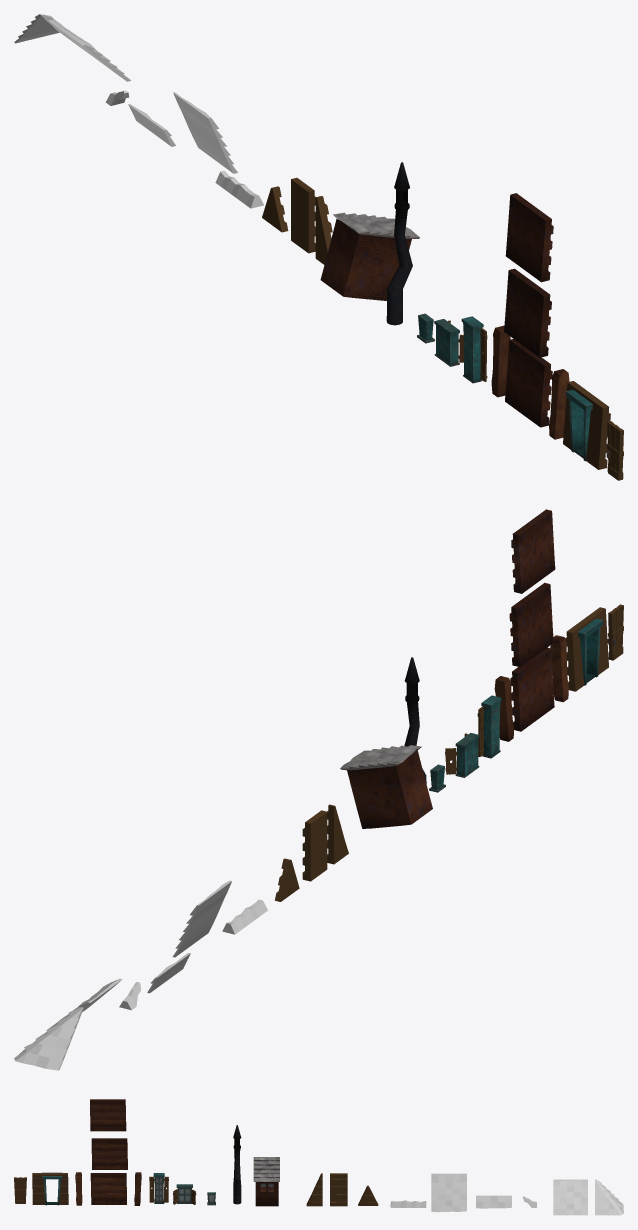
File: ModularHousenNew.fbx
3 views of the same model, one above another, from view 1: azimuth 30°, elevation 25°; view 2: azimuth 150°, elevation 25°; view 3: azimuth 270°, elevation 25° (orthographic). The views are drawn at different scales.
Visible parts, largest first — view 1: RoofWindow, WallV1, WallV2, WallDoor, WallV3, Chimney, RoofSlanted, RoofWall, WindowTall, Pillar, CornerPillar, WindowMedium (+6 smaller); view 2: RoofWindow, WallV2, WallV1, WallDoor, WallV3, RoofEdge, RoofWall, RoofSlanted, Chimney, Pillar, WindowTall, CornerPillar (+3 smaller); view 3: RoofSlanted, Roof, RoofWindow, WallV1, WallV2, WallV3, WallDoor, RoofEdge, RoofWall, Chimney, RoofSlantedSmall, Door.001 (+7 smaller).
Part boxes in pixels (<box>): RoofWindow: <box>320,212,419,300</box>; WallV1: <box>505,193,553,282</box>; WallV2: <box>504,268,551,357</box>; WallDoor: <box>563,381,610,469</box>; WallV3: <box>505,339,552,427</box>; Chimney: <box>386,162,412,325</box>; RoofSlanted: <box>173,92,237,173</box>; RoofWall: <box>291,177,315,253</box>; WindowTall: <box>461,316,483,383</box>; Pillar: <box>549,369,569,439</box>; CornerPillar: <box>491,325,510,397</box>; WindowMedium: <box>434,319,459,366</box>; RoofWindow: <box>340,745,432,828</box>; WallV2: <box>509,582,553,667</box>; WallV1: <box>511,509,555,593</box>; WallDoor: <box>565,607,608,691</box>; WallV3: <box>510,647,554,731</box>; RoofEdge: <box>14,1007,83,1070</box>; RoofWall: <box>302,810,327,881</box>; RoofSlanted: <box>172,880,231,957</box>; Chimney: <box>404,657,426,783</box>; Pillar: <box>550,635,568,702</box>; WindowTall: <box>481,695,501,758</box>; CornerPillar: <box>494,676,513,741</box>; RoofSlanted: <box>431,1173,466,1212</box>; Roof: <box>553,1179,587,1215</box>; RoofWindow: <box>253,1157,279,1206</box>; WallV1: <box>90,1099,126,1131</box>; WallV2: <box>91,1138,127,1169</box>; WallV3: <box>90,1173,126,1204</box>; WallDoor: <box>32,1172,68,1205</box>; RoofEdge: <box>595,1179,623,1215</box>; RoofWall: <box>330,1173,347,1206</box>; Chimney: <box>233,1125,241,1204</box>; RoofSlantedSmall: <box>476,1195,511,1208</box>; Door.001: <box>14,1177,26,1203</box>.
Size of the model in its own units: 575 by 1361 by 7145.
